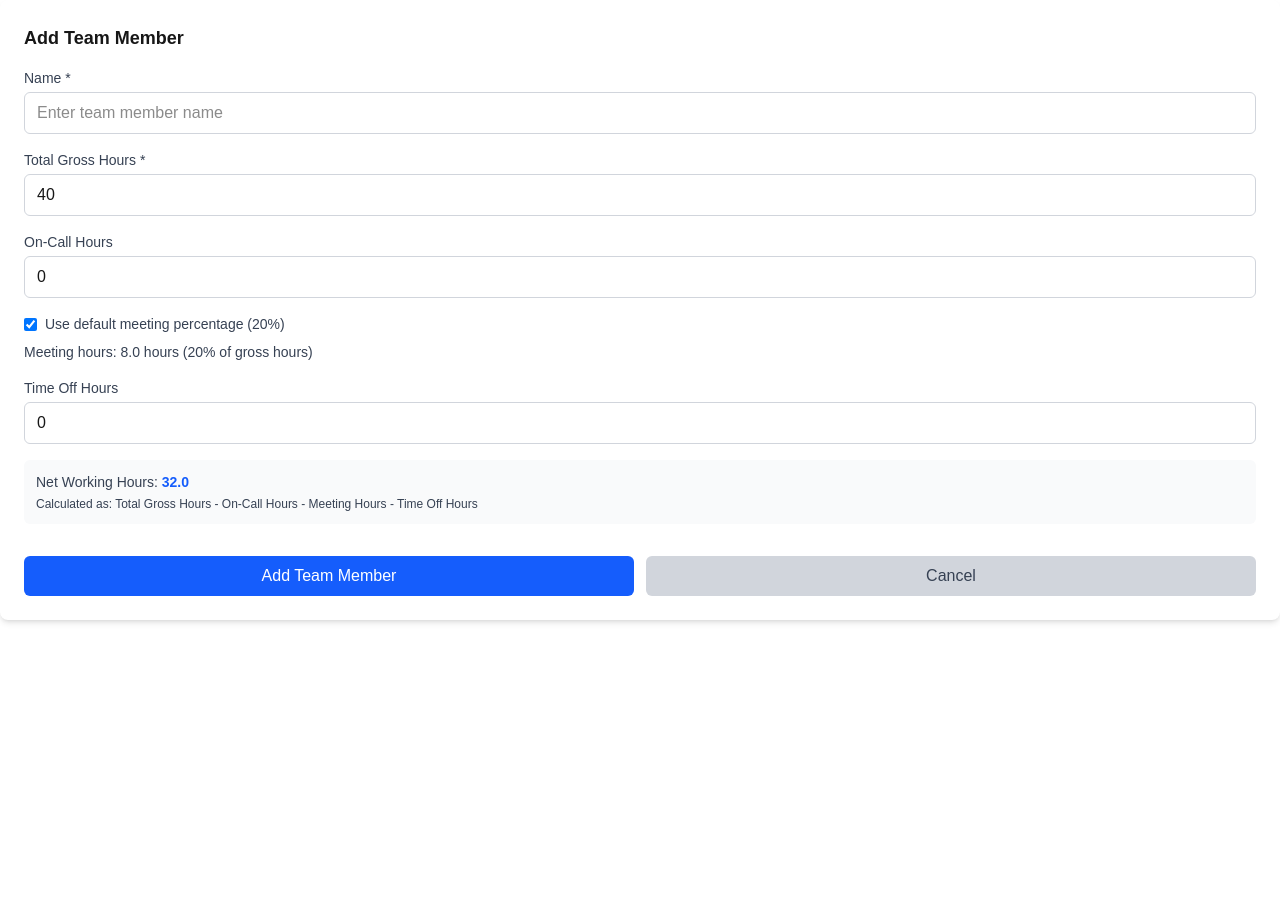
Test: TeamMemberForm › should allow custom meeting hours when checkbox is unchecked
Click the checkbox labelled "Use default meeting percentage (20%)": (30, 324) left=24, top=318, right=37, bottom=330
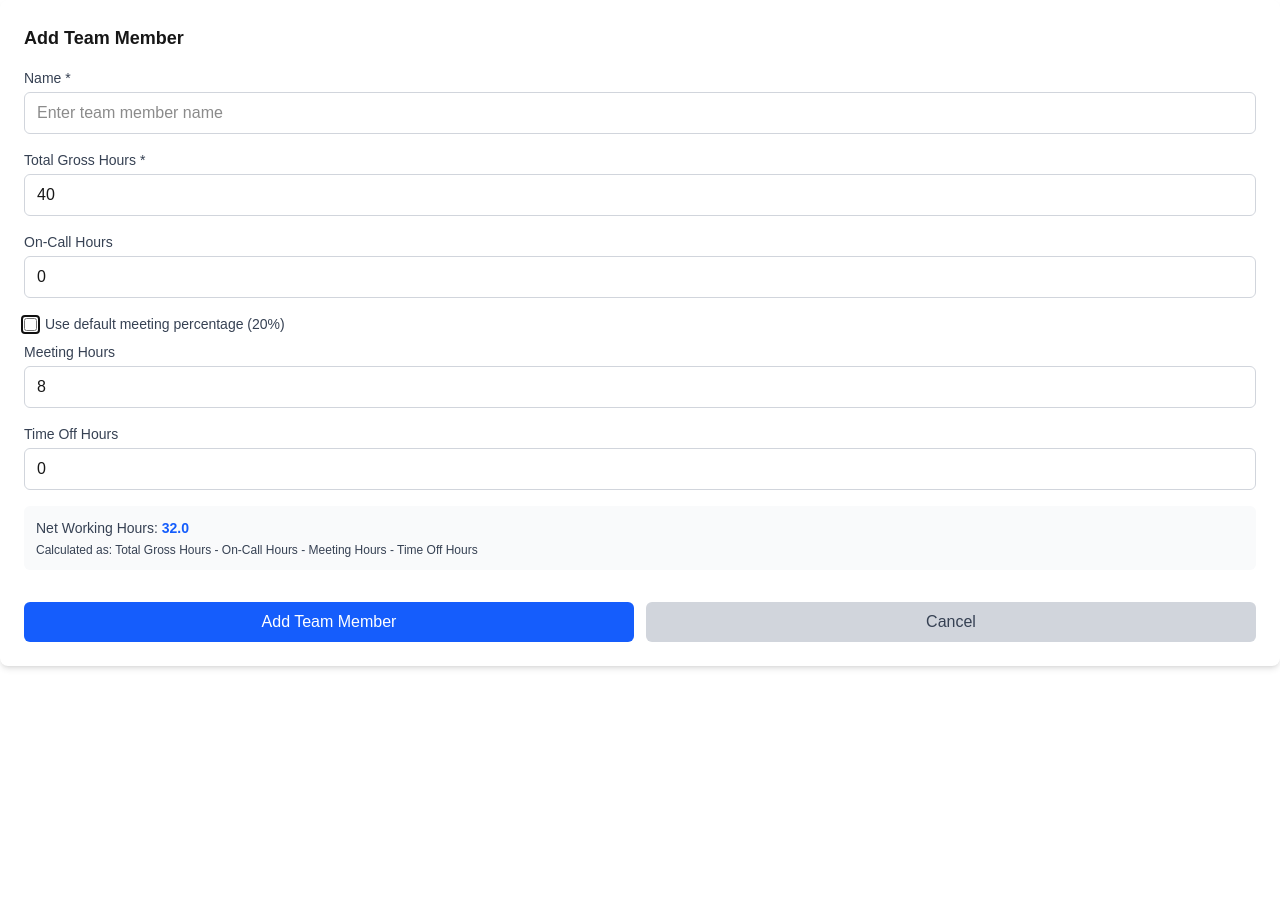
Check: the number field labelled "Meeting Hours" is shown, box left=24, top=366, right=1256, bottom=408
